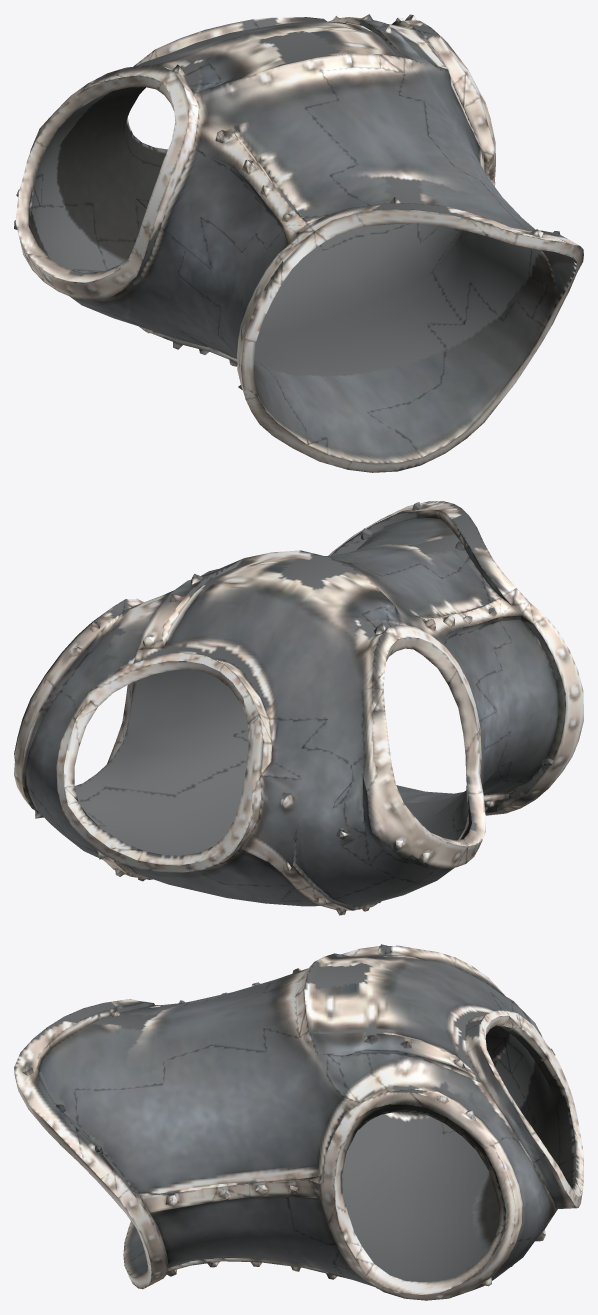
The model's file is item_mm9_10108.glb.
3 views of the same model, one above another, from view 1: azimuth 30°, elevation 25°; view 2: azimuth 150°, elevation 25°; view 3: azimuth 270°, elevation 25° (orthographic). The views are drawn at different scales.
Parts seen in each view (by area): view 1: d10108; view 2: d10108; view 3: d10108.
Boxes of the visible parts, x1=… form: d10108: x1=14, y1=14, x2=583, y2=472; d10108: x1=14, y1=501, x2=583, y2=915; d10108: x1=14, y1=944, x2=583, y2=1300.
Bounding box in the file's own units: 0.8251 × 0.6024 × 1.03.
Materials: 1 (1 with a texture image).
